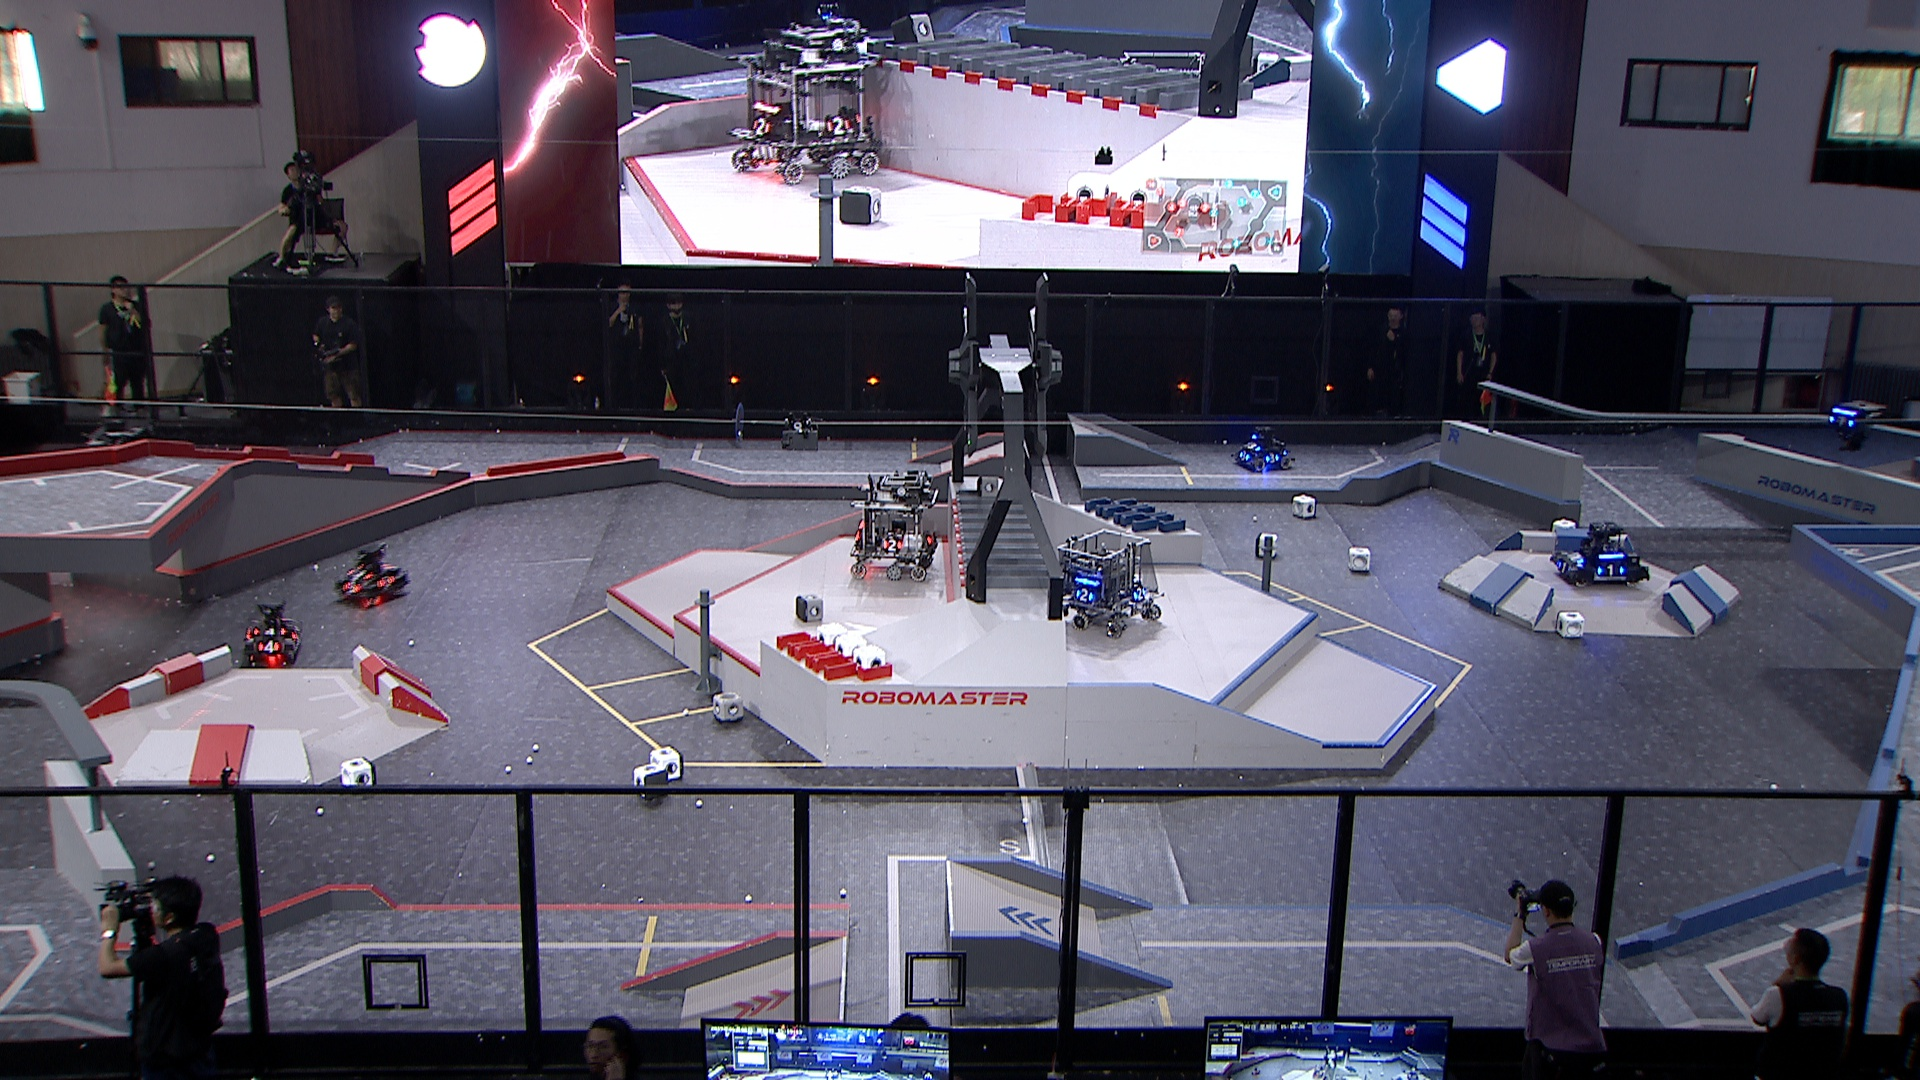armor: (1596, 562, 1626, 576), (251, 626, 287, 638), (345, 567, 373, 583), (1826, 415, 1855, 429), (256, 640, 280, 654), (375, 574, 398, 588), (880, 538, 903, 553), (1073, 588, 1095, 603), (1565, 550, 1585, 564), (1133, 585, 1149, 603), (342, 580, 361, 593), (1556, 560, 1571, 576), (1244, 442, 1262, 454), (1265, 450, 1280, 463), (1236, 450, 1250, 462)
car: (1051, 527, 1164, 638), (845, 465, 942, 582), (1549, 518, 1648, 589), (79, 418, 158, 493), (239, 597, 305, 669), (335, 541, 406, 604), (1228, 425, 1296, 472)
ignore: (733, 15, 884, 186)
watcher: (1822, 400, 1884, 456)
